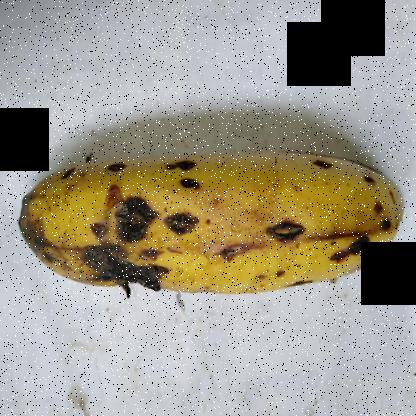rotten: (70, 191, 194, 315), (4, 198, 73, 268), (159, 147, 214, 210), (320, 223, 379, 278), (364, 175, 414, 225), (259, 198, 304, 242), (280, 256, 327, 298), (307, 144, 336, 190), (52, 154, 84, 195), (100, 150, 131, 188)
